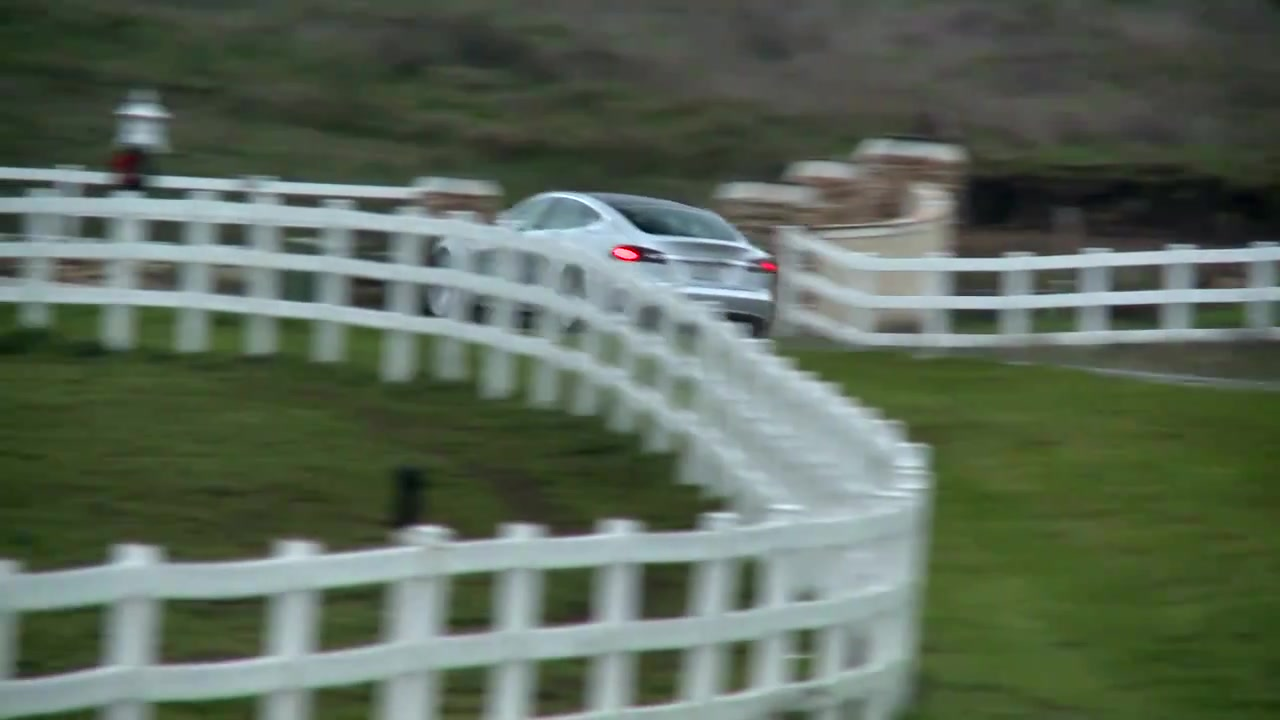car: (421, 191, 780, 345)
